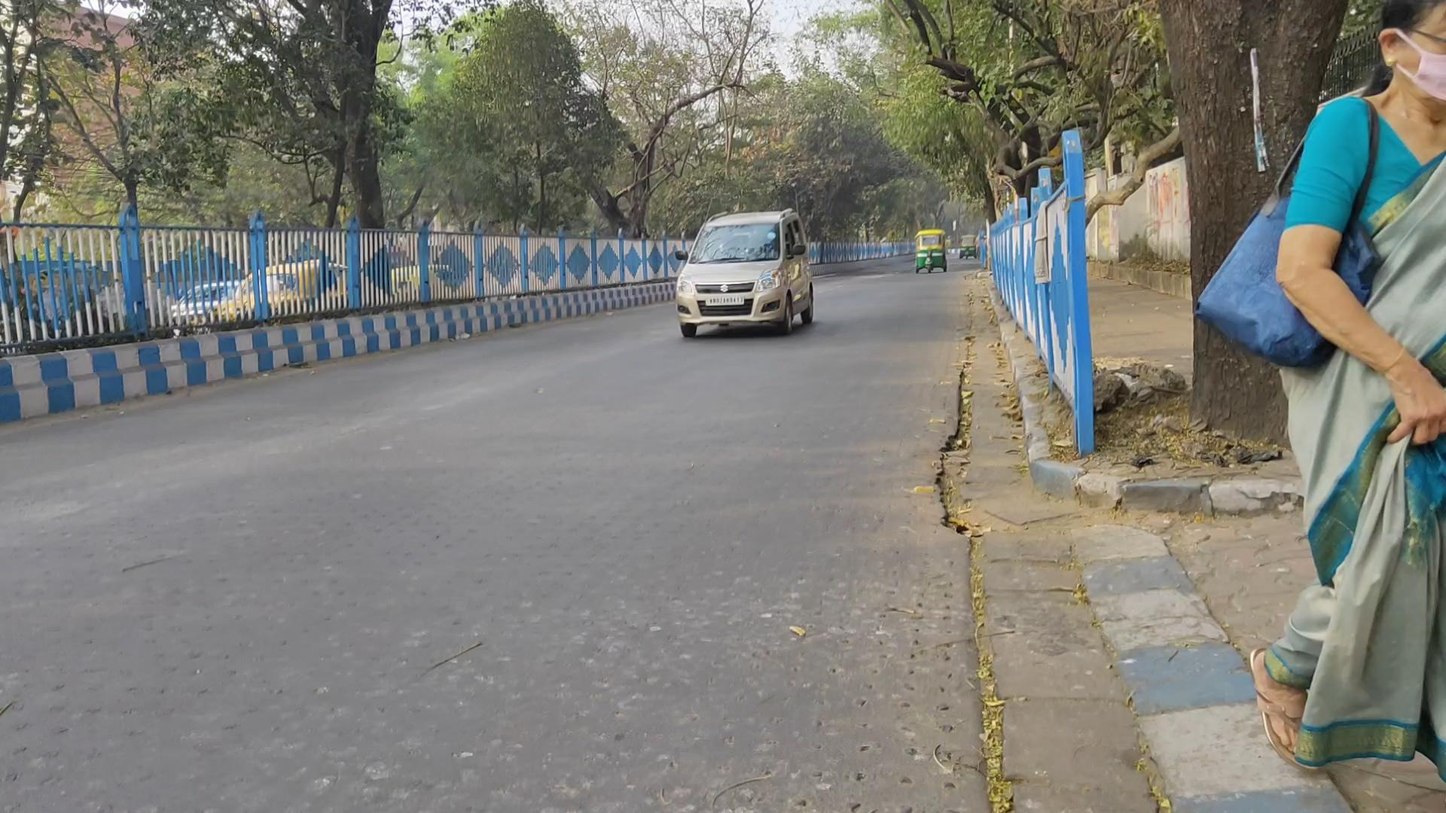Auto: (912, 227, 948, 276), (959, 234, 978, 260)
car: (674, 209, 813, 340)
